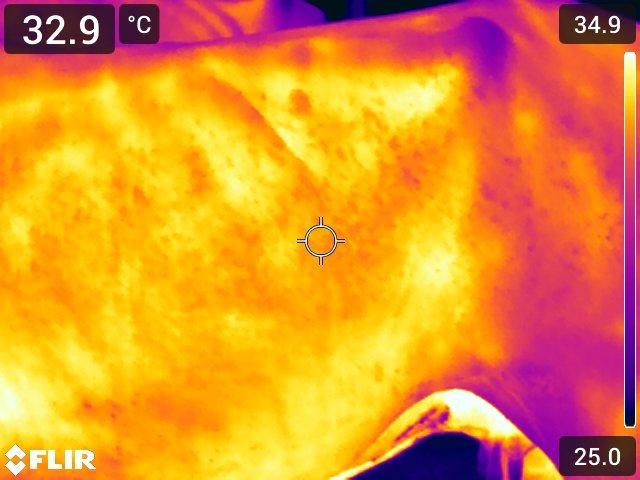udder: (413, 387, 554, 480)
